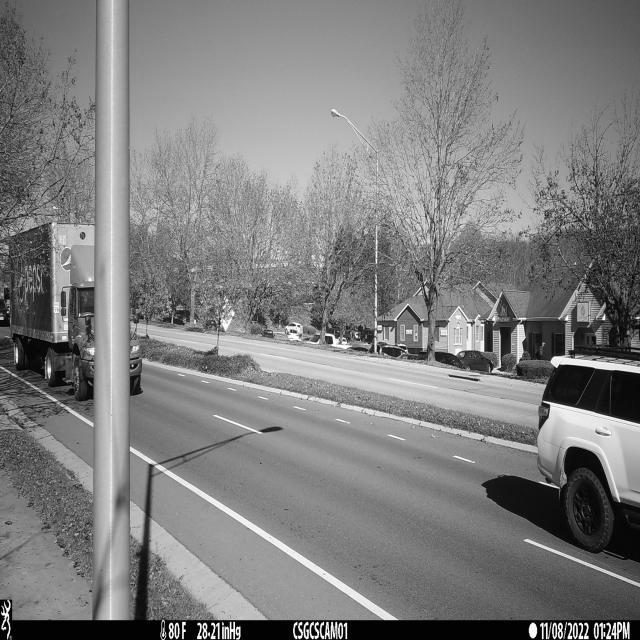Tractor Trailer: (10, 223, 95, 402), (130, 318, 142, 396)
